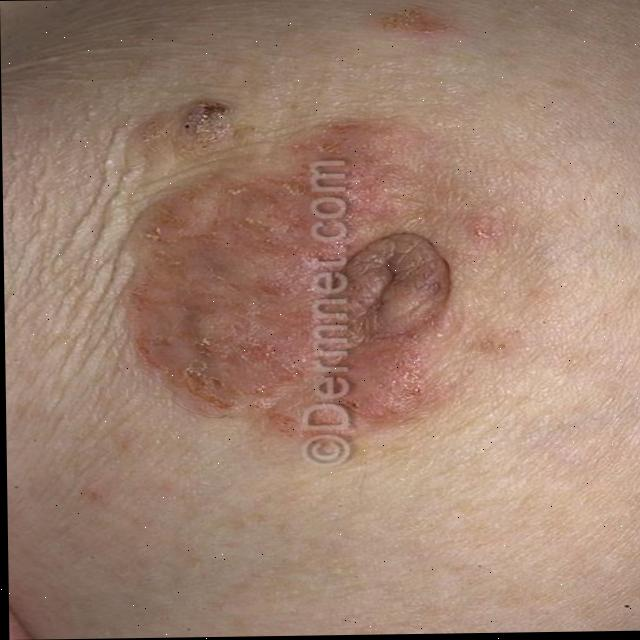Eczema: (119, 132, 508, 443)
